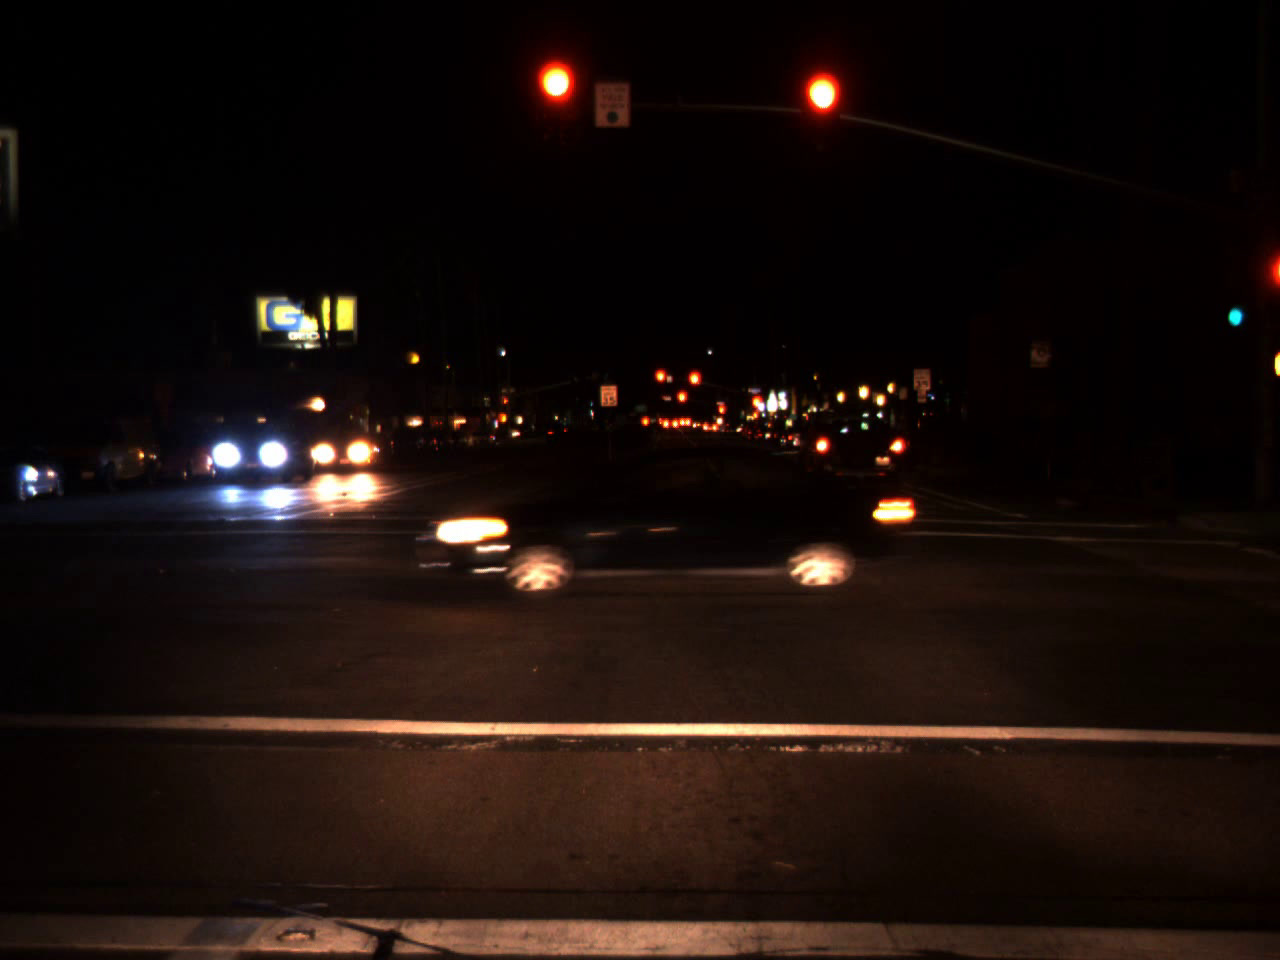stop: (537, 62, 577, 140), (801, 74, 840, 149), (686, 369, 702, 401), (653, 367, 668, 399), (675, 389, 688, 416), (749, 394, 764, 410), (717, 401, 726, 428), (503, 396, 509, 412)
